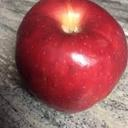apple: (16, 1, 128, 112)
